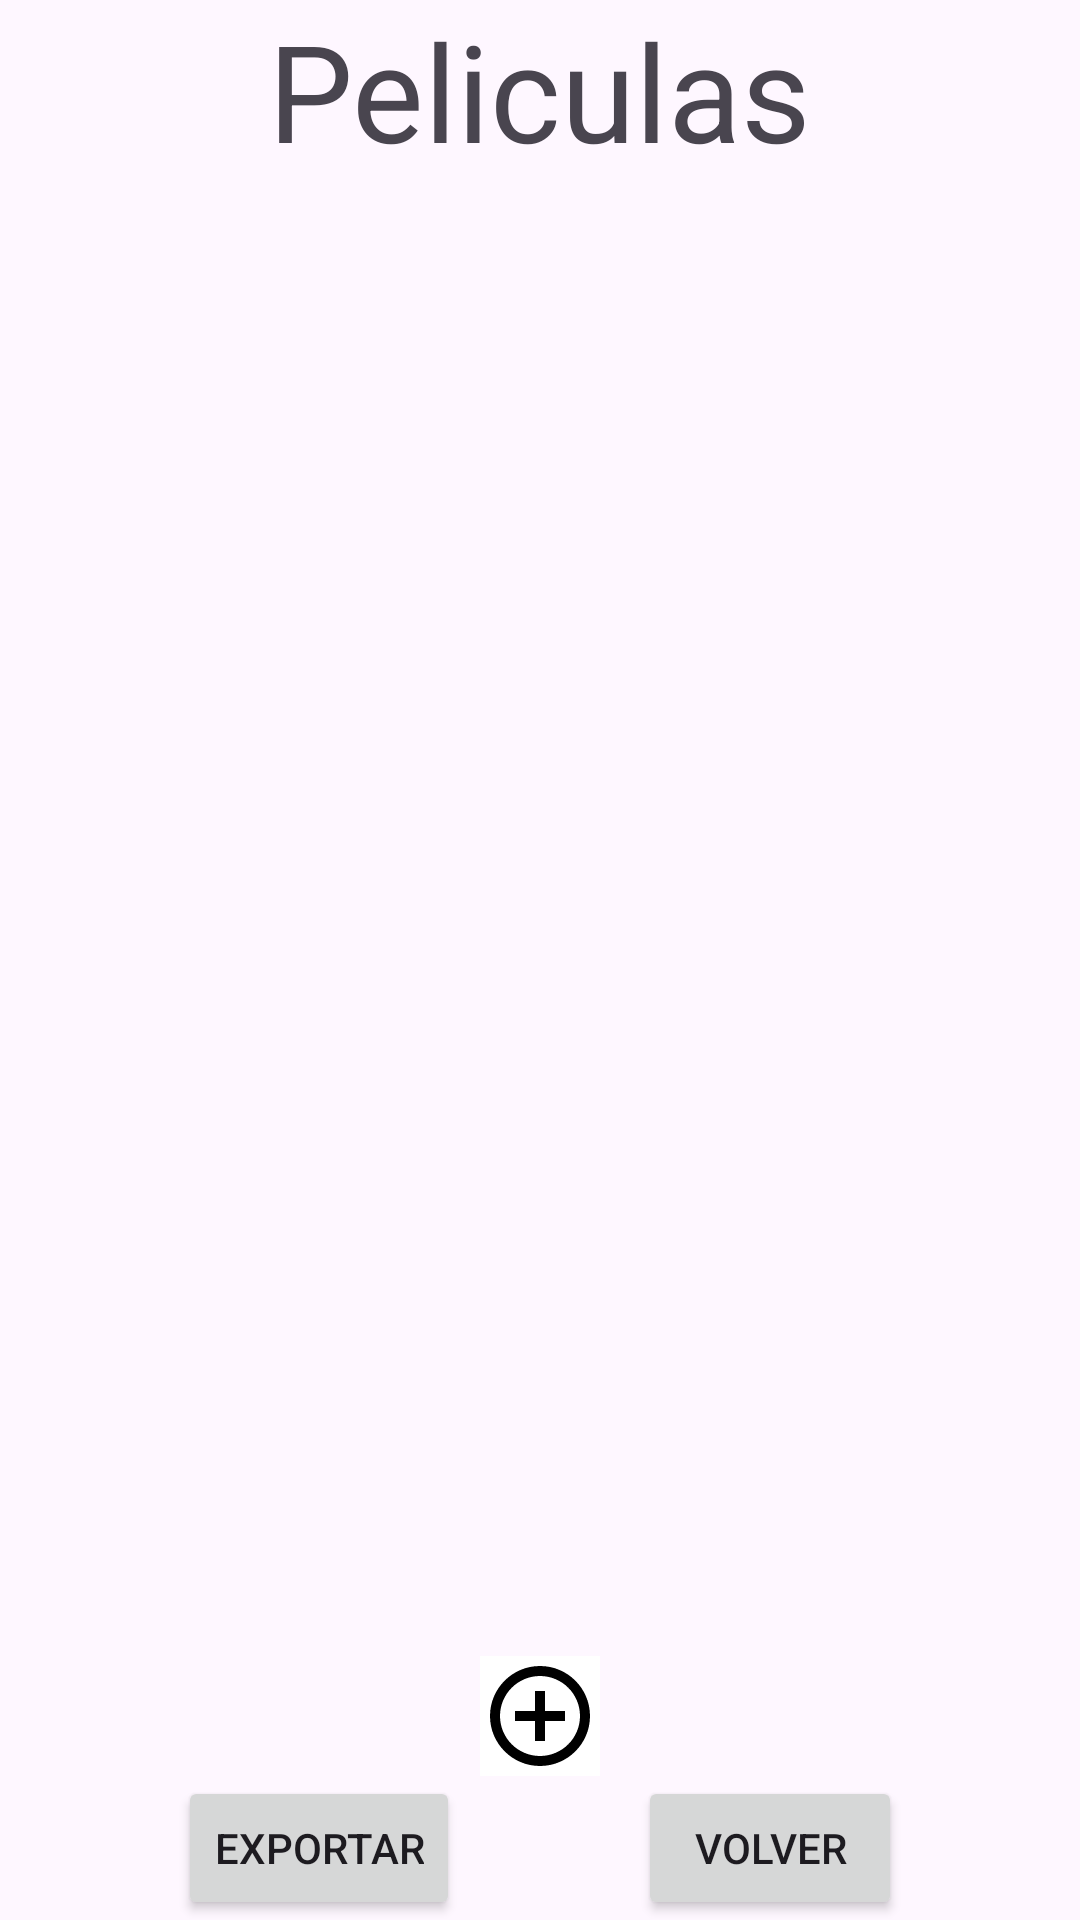

Icons on this 1080×1920 Android screen, each with the point to tap as point (x, y):
add circle: point (540, 1716)
